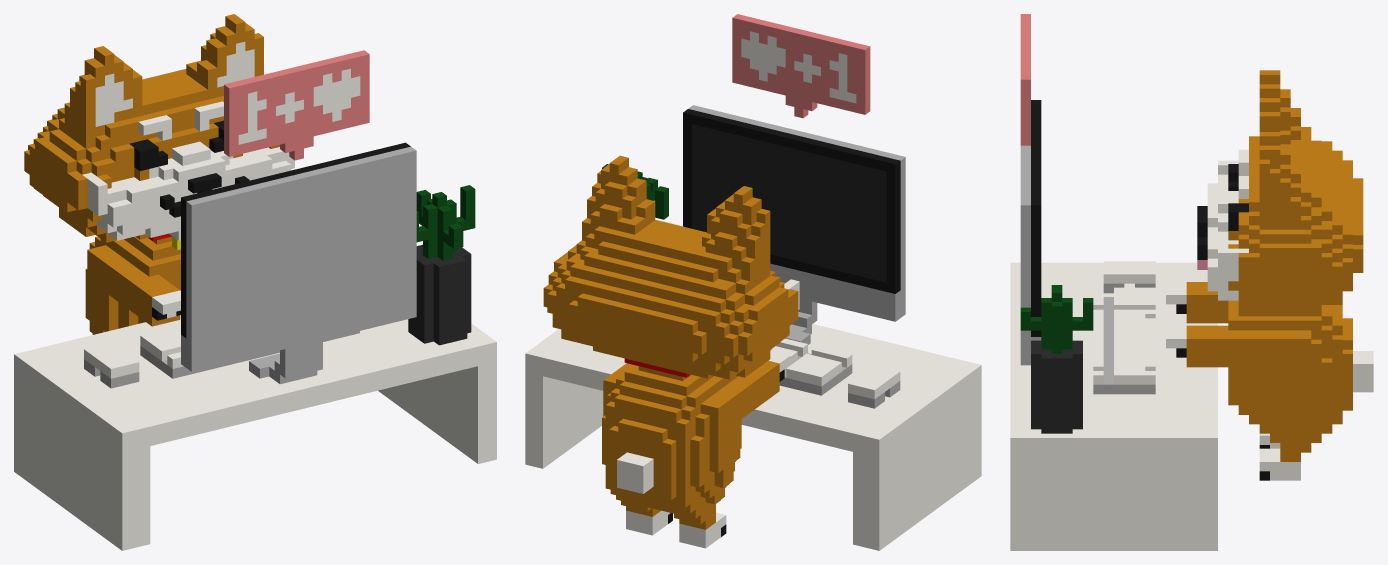
The model's file is charactor.obj.
3 renders of one model, left to right at view 1: azimuth 30°, elevation 25°; view 2: azimuth 150°, elevation 25°; view 3: azimuth 270°, elevation 25°, orthographic. The views are drawn at different scales.
Bounding box in the file's own units: 4 × 4.4 × 3.5.
